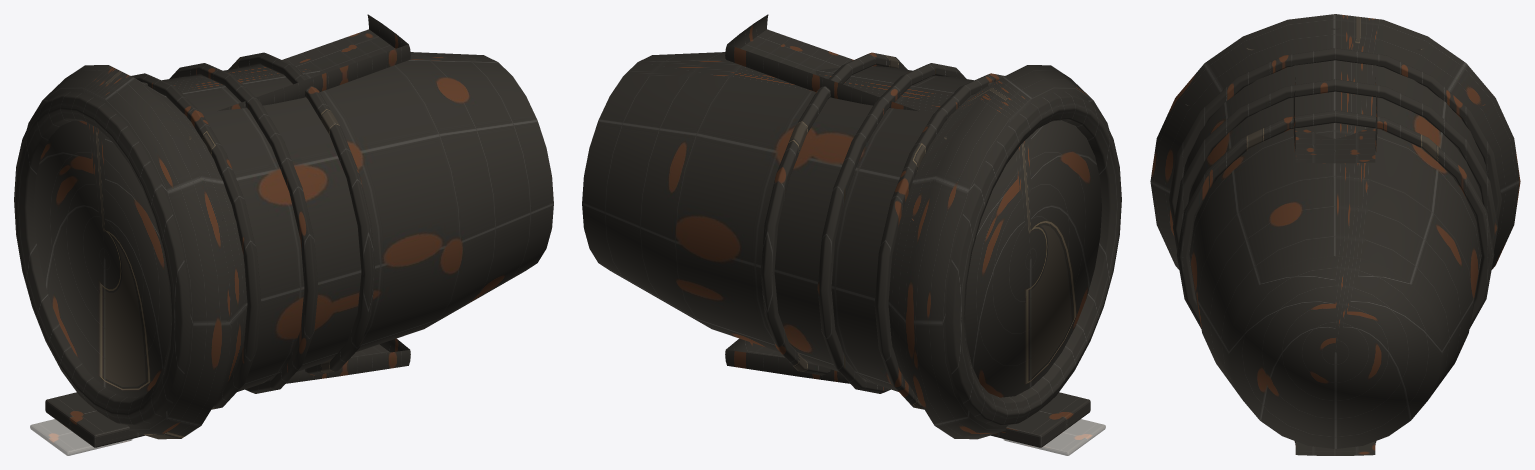
File: engine_ion_small.glb
3 renders of one model, left to right at view 1: azimuth 30°, elevation 25°; view 2: azimuth 150°, elevation 25°; view 3: azimuth 270°, elevation 25°, orthographic. The views are drawn at different scales.
Visible parts, largest first — view 1: LOD0_ENGINE_ION_SMALL_MAIN, engine_ion_small_Material_Mechanical_Merged, DET_soot_vent_band, DET_heat_discolor; view 2: LOD0_ENGINE_ION_SMALL_MAIN, engine_ion_small_Material_Mechanical_Merged, DET_soot_vent_band, DET_heat_discolor; view 3: LOD0_ENGINE_ION_SMALL_MAIN, engine_ion_small_Material_Mechanical_Merged.
Boxes of the visible parts, <box> form: LOD0_ENGINE_ION_SMALL_MAIN: <box>26,52,553,439</box>; engine_ion_small_Material_Mechanical_Merged: <box>14,14,410,426</box>; DET_soot_vent_band: <box>45,392,145,447</box>; DET_heat_discolor: <box>30,419,132,455</box>; LOD0_ENGINE_ION_SMALL_MAIN: <box>582,52,1109,439</box>; engine_ion_small_Material_Mechanical_Merged: <box>725,14,1121,426</box>; DET_soot_vent_band: <box>990,392,1090,447</box>; DET_heat_discolor: <box>1003,419,1105,455</box>; LOD0_ENGINE_ION_SMALL_MAIN: <box>1150,14,1520,448</box>; engine_ion_small_Material_Mechanical_Merged: <box>1169,28,1501,455</box>.
Size of the model in its own units: 2.86 by 2.12 by 2.12.
Materials: 3 (3 with a texture image).
